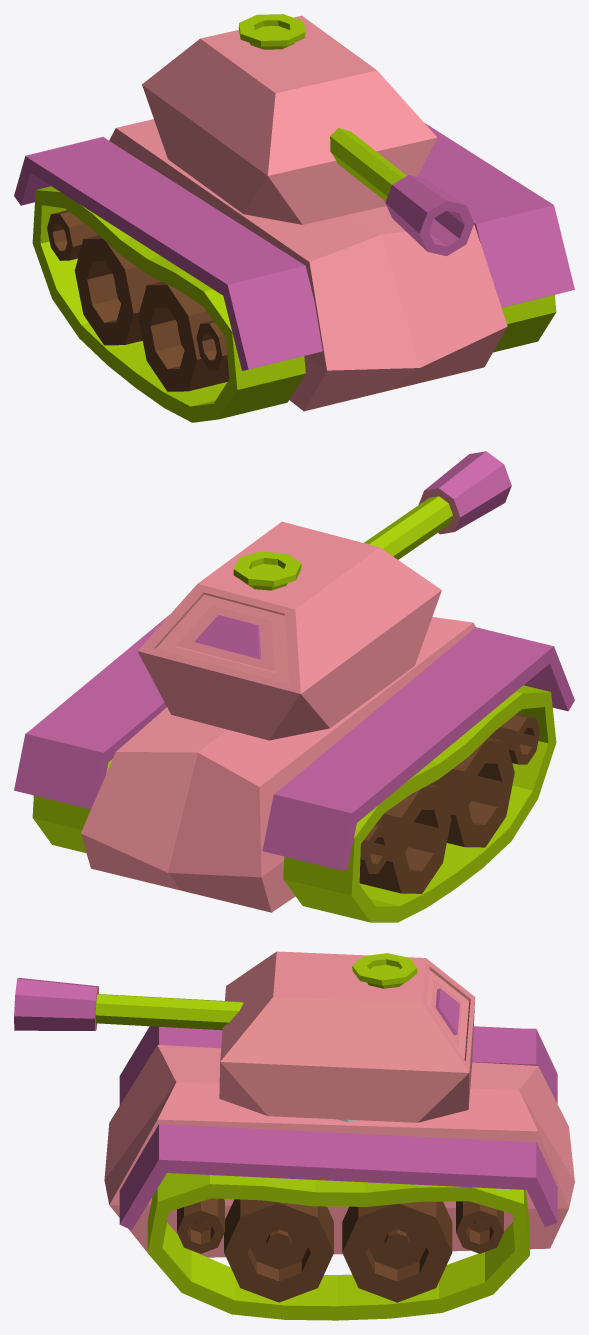
Rendered from tank3-v.1.3.gltf.
3 views of the same model, one above another, from view 1: azimuth 30°, elevation 25°; view 2: azimuth 150°, elevation 25°; view 3: azimuth 270°, elevation 25° (orthographic). The views are drawn at different scales.
Visible parts, largest first — view 1: Cube.002, Cube.001, Cube, Cube.003, Cylinder.003, Cylinder.001, Cylinder.002, Cylinder.006, Cylinder.005, Cylinder.004; view 2: Cube.001, Cube.002, Cube, Cube.003, Cylinder.003, Cylinder.002, Cylinder.001, Cylinder.006, Cylinder.004, Cylinder.005; view 3: Cube.001, Cube.002, Cube, Cube.003, Cylinder.001, Cylinder.002, Cylinder.003, Cylinder.004, Cylinder.005, Cylinder.006.
Part boxes in pixels (x1,y1,x2,y2): Cube.002: (14, 123, 574, 370); Cube.001: (142, 15, 437, 224); Cube: (109, 119, 507, 411); Cube.003: (32, 186, 556, 422); Cylinder.003: (330, 128, 474, 256); Cylinder.001: (138, 282, 229, 391); Cylinder.002: (74, 235, 161, 345); Cylinder.006: (238, 14, 305, 49); Cylinder.005: (47, 210, 98, 260); Cylinder.004: (196, 320, 228, 370); Cube.001: (137, 521, 441, 740); Cube.002: (14, 614, 574, 870); Cube: (81, 617, 475, 912); Cube.003: (32, 685, 556, 922); Cylinder.003: (364, 451, 511, 559); Cylinder.002: (359, 784, 451, 893); Cylinder.001: (430, 737, 514, 847); Cylinder.006: (233, 551, 301, 590); Cylinder.004: (489, 713, 539, 764); Cylinder.005: (360, 825, 390, 873); Cube.001: (219, 951, 475, 1122); Cube.002: (119, 1026, 557, 1230); Cube: (104, 1045, 574, 1257); Cube.003: (147, 1173, 529, 1320); Cylinder.001: (224, 1199, 333, 1302); Cylinder.002: (342, 1201, 452, 1302); Cylinder.003: (14, 978, 243, 1030); Cylinder.004: (177, 1198, 224, 1253); Cylinder.005: (456, 1201, 503, 1253); Cylinder.006: (352, 953, 417, 988).
Bounding box in the file's own units: 3.23 × 2.86 × 5.15.
